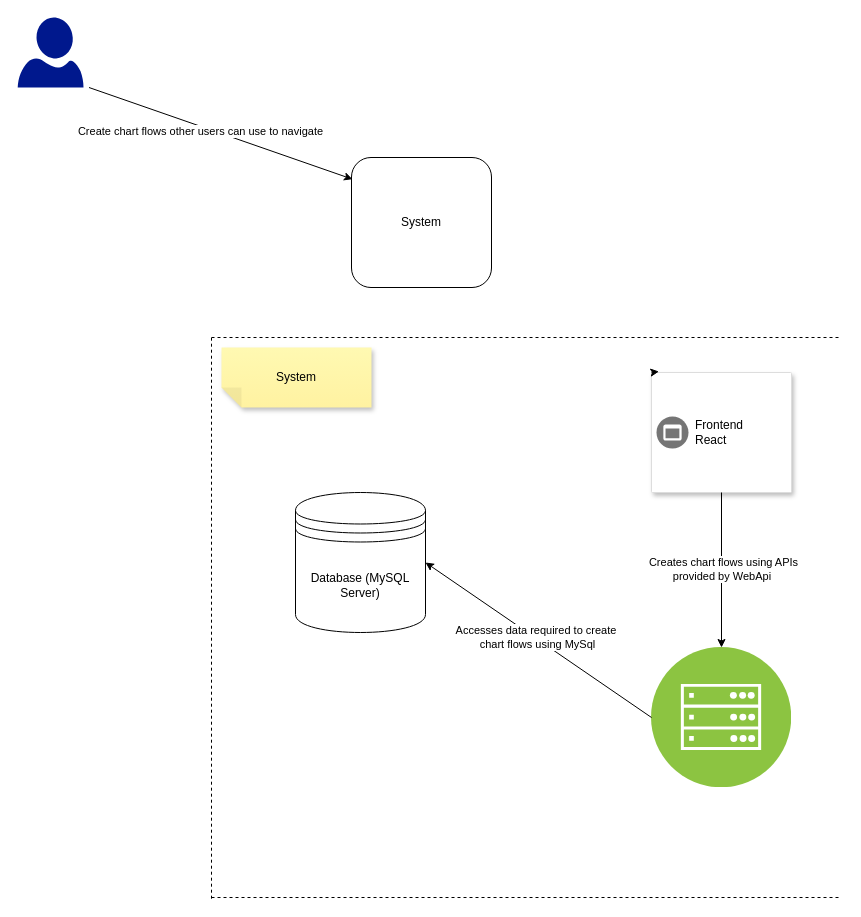
This 861x917 diagram has some shape labels left out. Each missing label, with the centre of its shape:
Backend .NET Framework: point (721, 717)
Organisation: point (50, 52)
